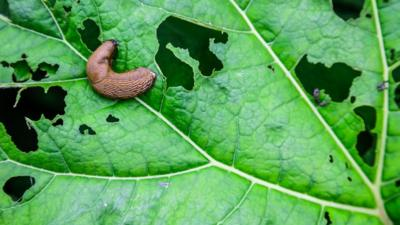slug: (85, 39, 156, 102)
